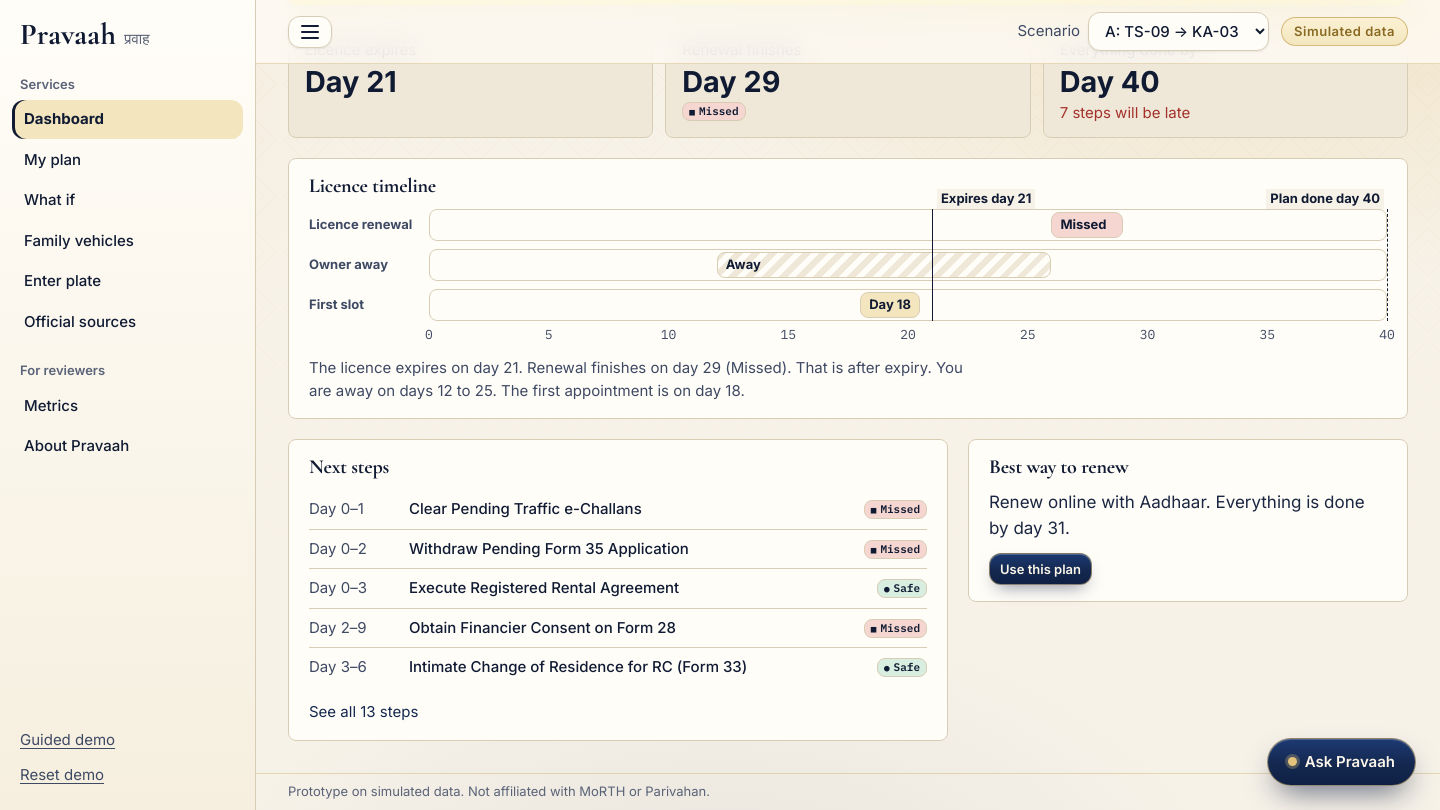
Test: Dashboard › recommends a route and applies it on request
(page scrolled)
What coordinates should you click on to do the following:
click the button "Use this plan"
I would click on:
 (1040, 569)
Its box is left=989, top=553, right=1092, bottom=585.
(page scrolled)
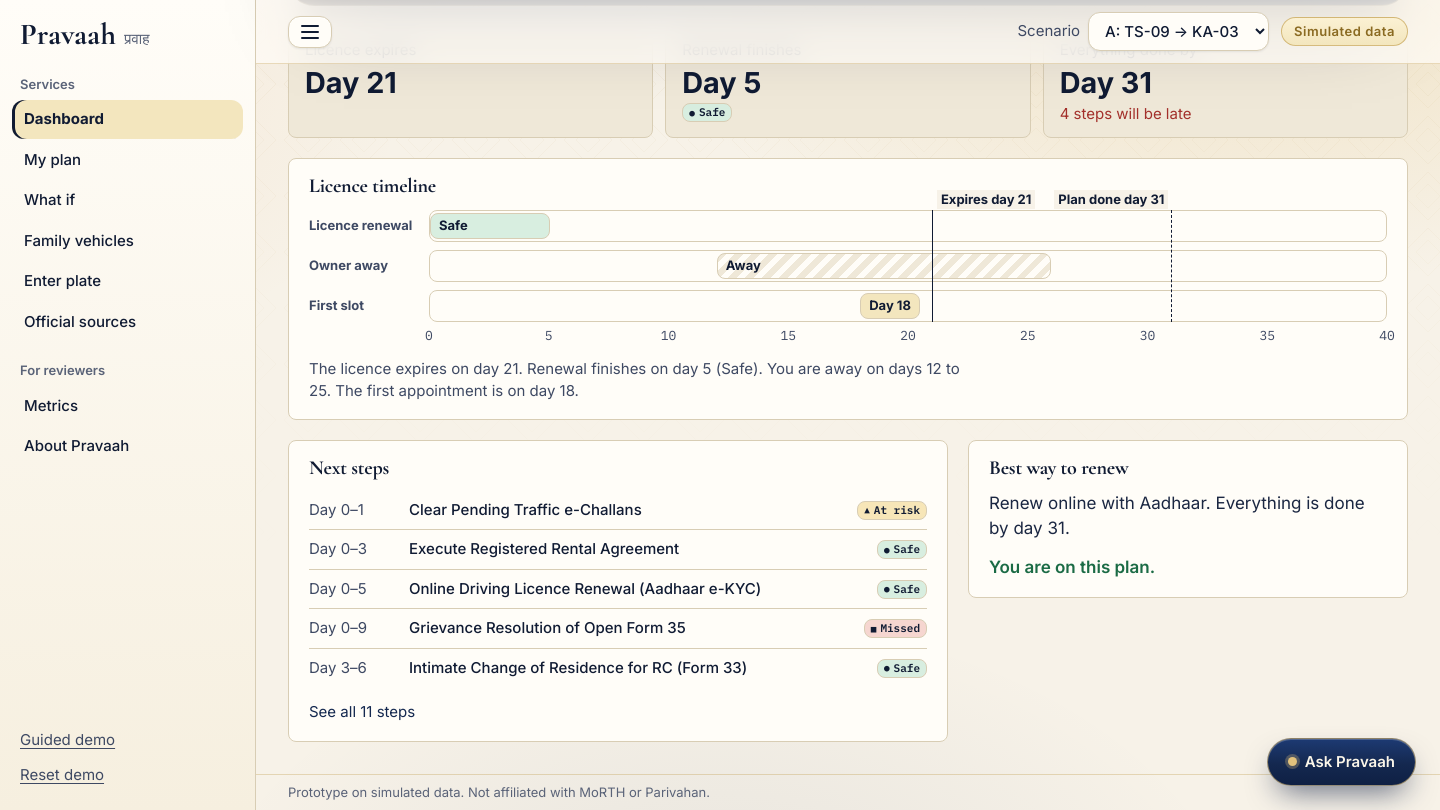
Now the text "You are on this plan." is shown, box left=989, top=557, right=1155, bottom=577
